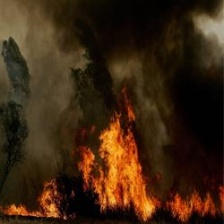fire: (1, 112, 224, 221)
smoke: (44, 4, 224, 103)
